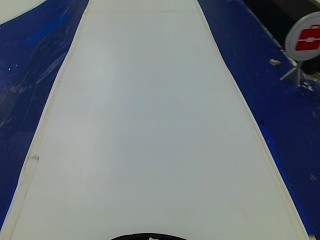company: (285, 10, 318, 62)
